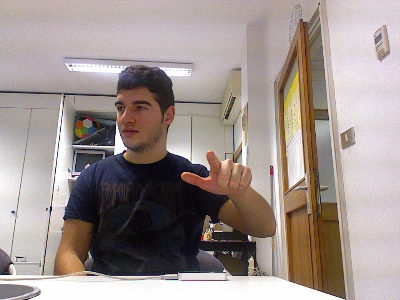枪: (178, 149, 252, 197)
